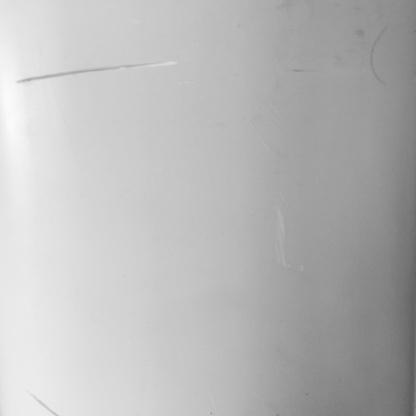sunshang: (13, 63, 189, 81)
